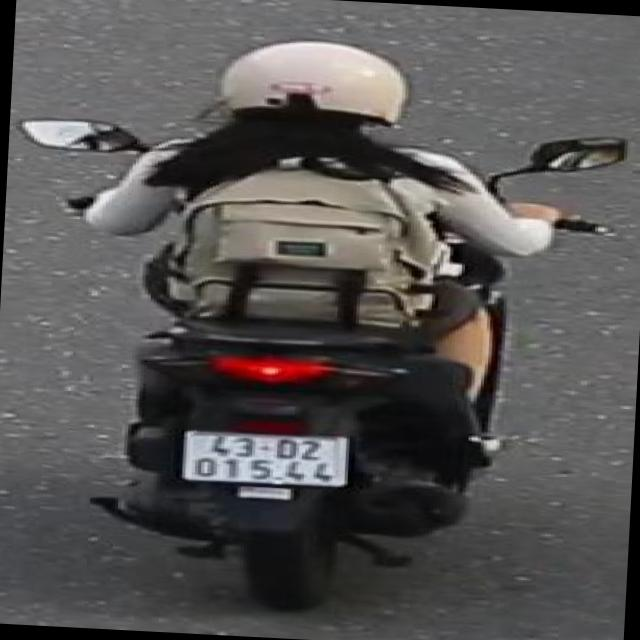LP: (178, 426, 360, 496)
helmet: (206, 30, 414, 136)
